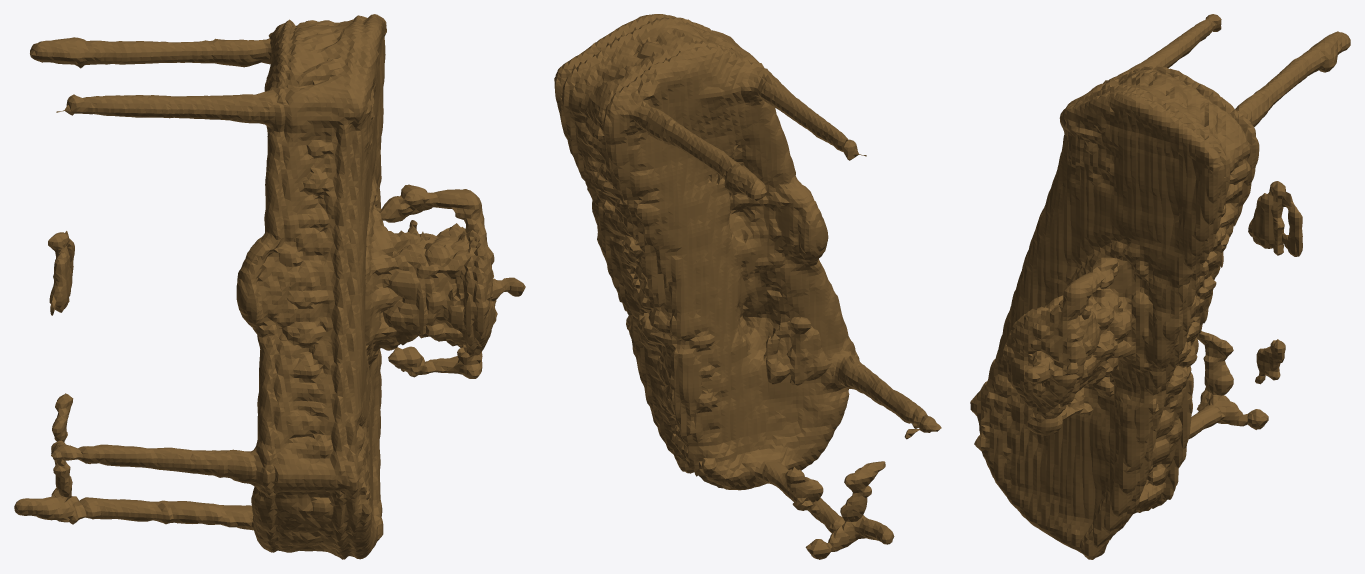
The model's file is raw.glb.
3 renders of one model, left to right at view 1: azimuth 30°, elevation 25°; view 2: azimuth 150°, elevation 25°; view 3: azimuth 270°, elevation 25°, orthographic. The views are drawn at different scales.
Parts seen in each view (by area): view 1: world; view 2: world; view 3: world.
Boxes of the visible parts, left/top/right/bottom form: world: left=14, top=14, right=525, bottom=559; world: left=554, top=14, right=941, bottom=559; world: left=970, top=14, right=1350, bottom=559.
Bounding box in the file's own units: 0.55 × 0.6282 × 0.4567.
